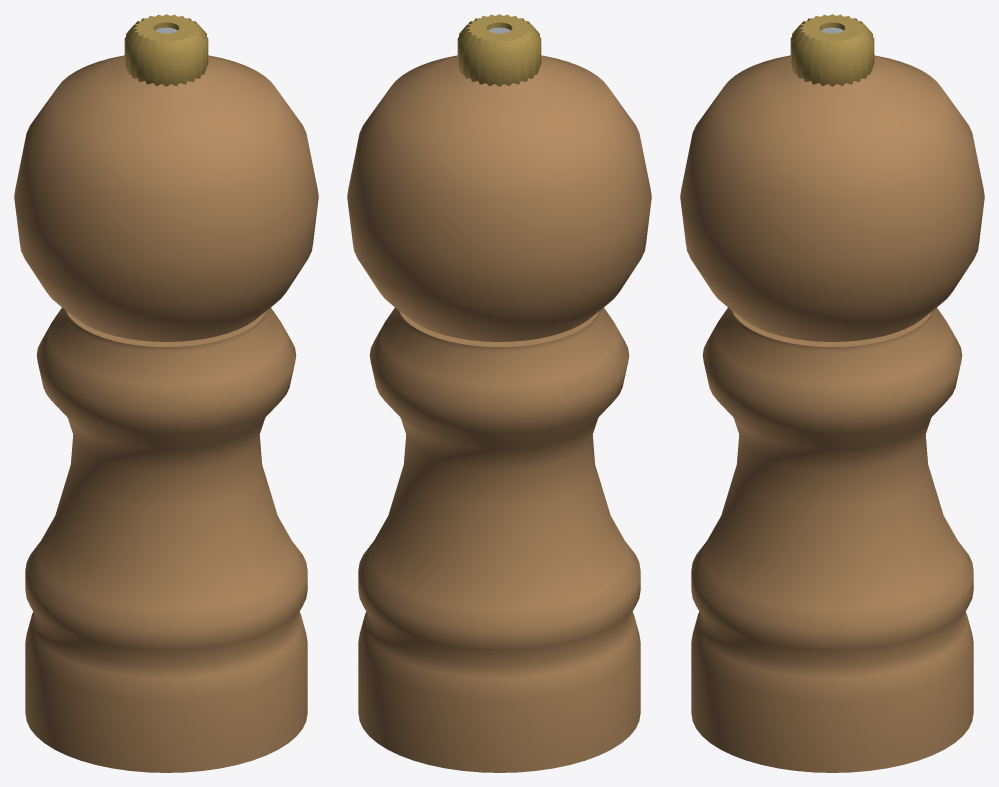
3 views of the same model, side by side, from view 1: azimuth 30°, elevation 25°; view 2: azimuth 150°, elevation 25°; view 3: azimuth 270°, elevation 25° (orthographic).
Visible parts, largest first — view 1: Hollow turned mill body, Rotating upper grinding knob, Knurled top adjustment nut; view 2: Hollow turned mill body, Rotating upper grinding knob, Knurled top adjustment nut; view 3: Hollow turned mill body, Rotating upper grinding knob, Knurled top adjustment nut.
Part boxes in pixels (<box>): Hollow turned mill body: <box>25,307,307,772</box>; Rotating upper grinding knob: <box>14,55,318,341</box>; Knurled top adjustment nut: <box>124,14,208,86</box>; Hollow turned mill body: <box>358,307,640,772</box>; Rotating upper grinding knob: <box>347,55,651,341</box>; Knurled top adjustment nut: <box>457,14,541,86</box>; Hollow turned mill body: <box>691,307,973,772</box>; Rotating upper grinding knob: <box>680,55,984,341</box>; Knurled top adjustment nut: <box>790,14,874,86</box>.
Size of the model in its own units: 0.054 by 0.134 by 0.054.
